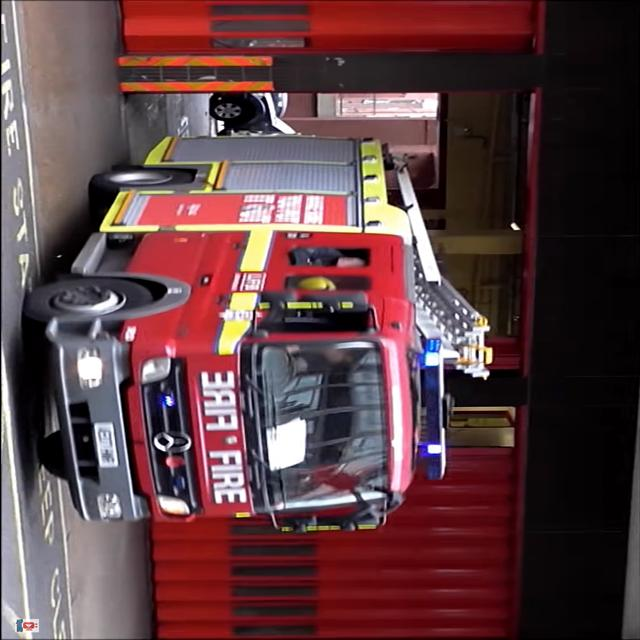emergency-vehicles: (14, 98, 496, 540)
